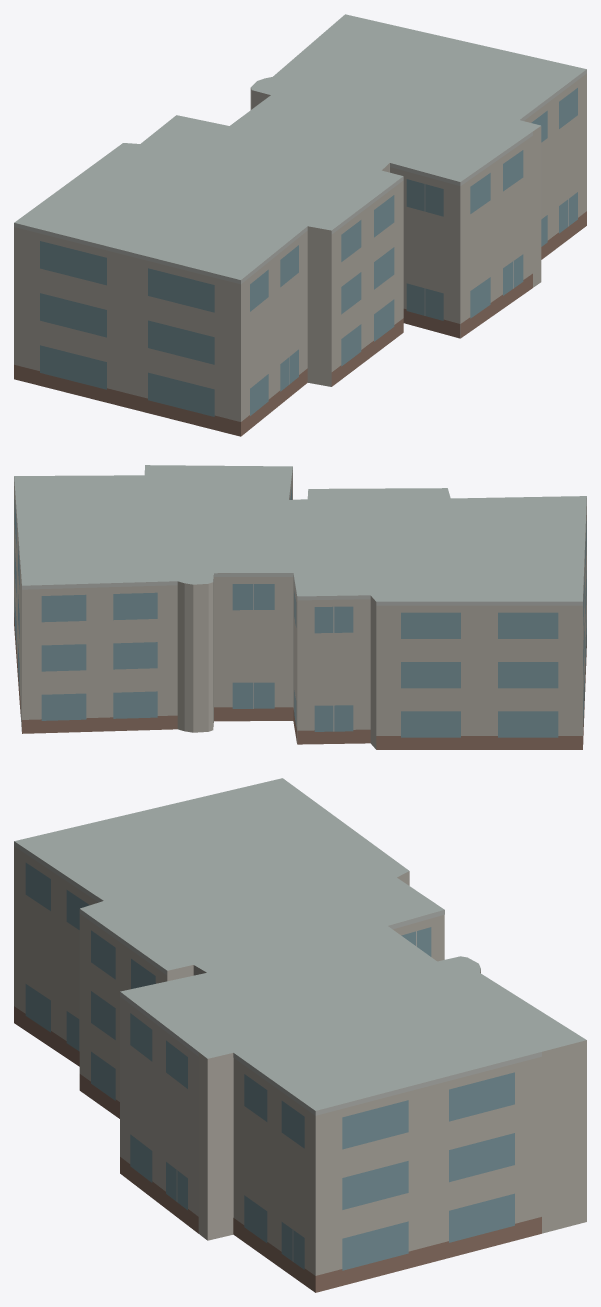
File: survey-upis-32491433.glb
The picture shows the model from 3 angles, top to bottom: view 1: azimuth 30°, elevation 25°; view 2: azimuth 150°, elevation 25°; view 3: azimuth 270°, elevation 25°; orthographic projection. The views are drawn at different scales.
Visible parts, largest first — view 1: survey-upis-32491433.tmp; view 2: survey-upis-32491433.tmp; view 3: survey-upis-32491433.tmp.
Boxes of the visible parts, <box> form: survey-upis-32491433.tmp: <box>14,14,586,436</box>; survey-upis-32491433.tmp: <box>14,465,586,749</box>; survey-upis-32491433.tmp: <box>14,778,586,1292</box>.
Bounding box in the file's own units: 35.93 × 9.15 × 26.13.
